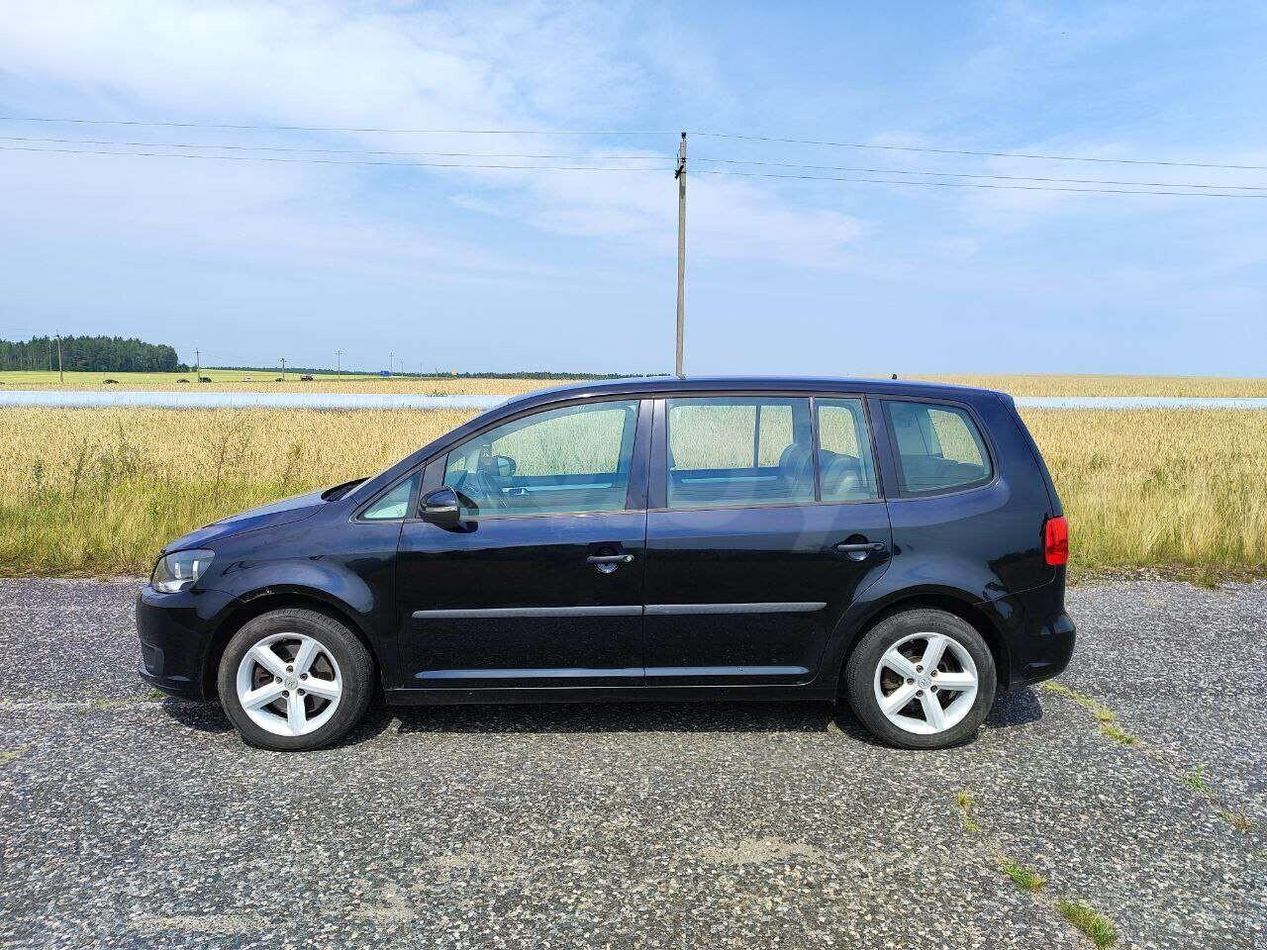Touran_2010-2015: (134, 369, 1084, 766)
